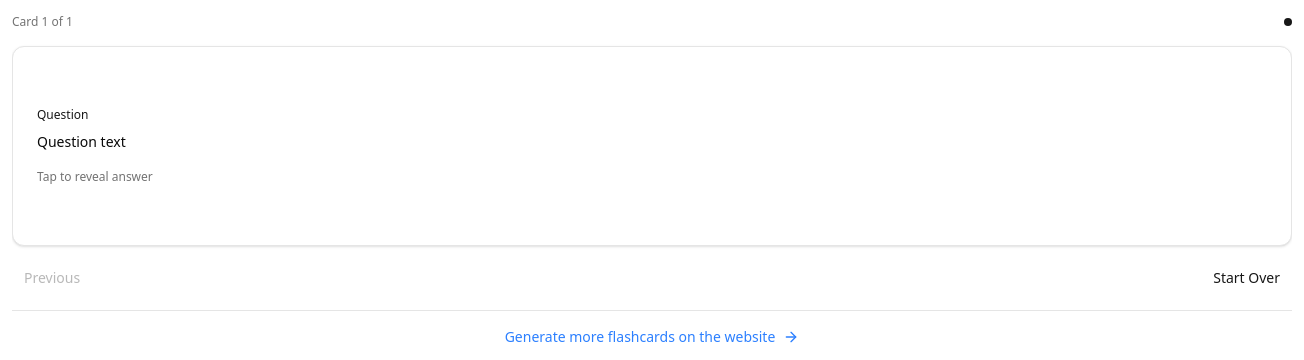
Test: FlashcardView › flip interaction › flips back to question when clicked again
The width and height of the screenshot is (1304, 360).
Click the button with aria-label "show answer" at (652, 234), box [12, 46, 1292, 246]
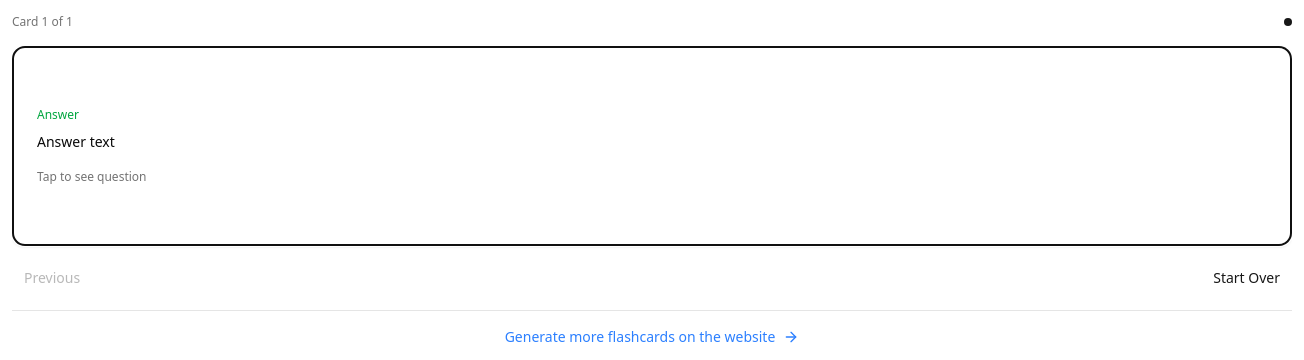
Now the text "Answer text" is shown, box [37, 132, 115, 151]
Click the button with aria-label "show question" at (652, 234), box [12, 46, 1292, 246]
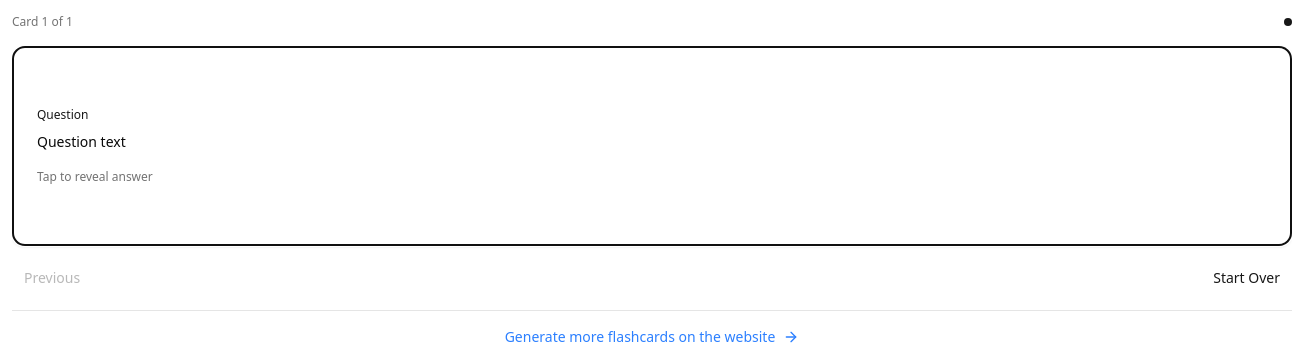
Now the text "Question text" is shown, box [37, 132, 126, 151]
